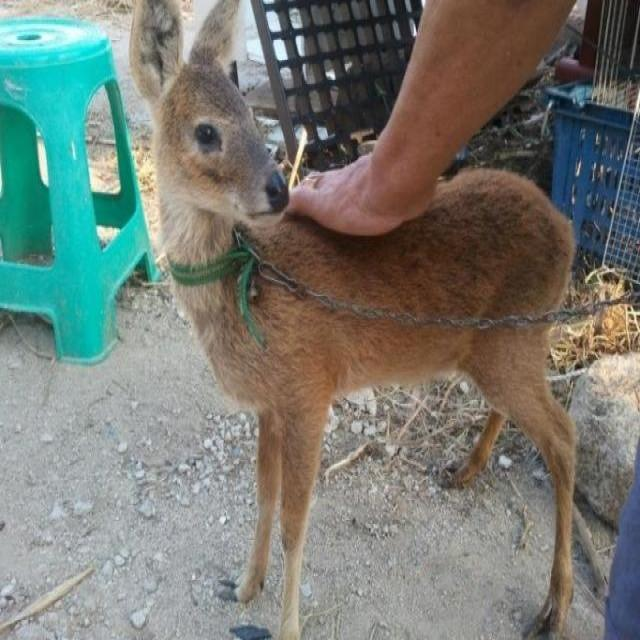deer: (126, 0, 583, 640)
